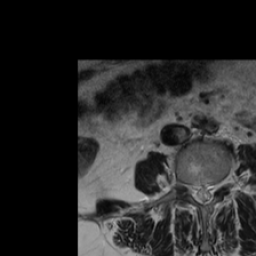CCS_normal: (200, 175, 208, 213)
LFS_normal: (216, 170, 224, 198)
LLS_normal: (208, 175, 216, 208)
RFS_normal: (181, 173, 190, 206)
RLS_normal: (190, 176, 200, 208)
